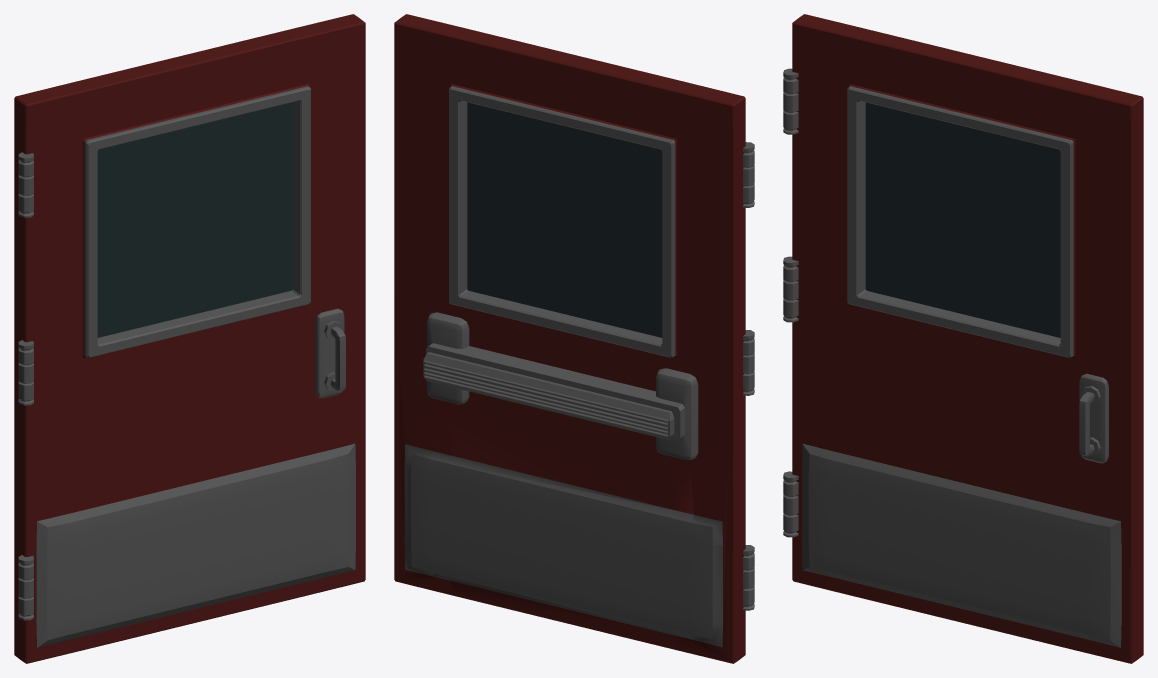
The model's file is DoorSimpled.fbx.
3 views of the same model, side by side, from view 1: azimuth 30°, elevation 25°; view 2: azimuth 150°, elevation 25°; view 3: azimuth 330°, elevation 25° (orthographic).
Visible parts, largest first — view 1: pCube25, pasted__pCube27 (×2), pasted__pCube28, pasted__pCube26; view 2: pCube25, pasted__pCube27 (×2), pasted__pCube26, pasted__pCube28; view 3: pCube25, pasted__pCube27 (×2), pasted__pCube28, pasted__pCube26.
Boxes of the visible parts, x1,y1,x2,y2 form: pCube25: [14, 14, 365, 663]; pasted__pCube27 (×2): [18, 102, 292, 620]; pasted__pCube28: [18, 152, 33, 217]; pasted__pCube26: [18, 340, 33, 405]; pCube25: [394, 14, 745, 663]; pasted__pCube27 (×2): [467, 102, 754, 610]; pasted__pCube26: [743, 330, 754, 395]; pasted__pCube28: [743, 142, 754, 207]; pCube25: [792, 14, 1143, 663]; pasted__pCube27 (×2): [783, 102, 1060, 537]; pasted__pCube28: [783, 68, 798, 134]; pasted__pCube26: [783, 256, 798, 322].
Bounding box in the file's own units: 3.04 × 4.67 × 0.6648.
